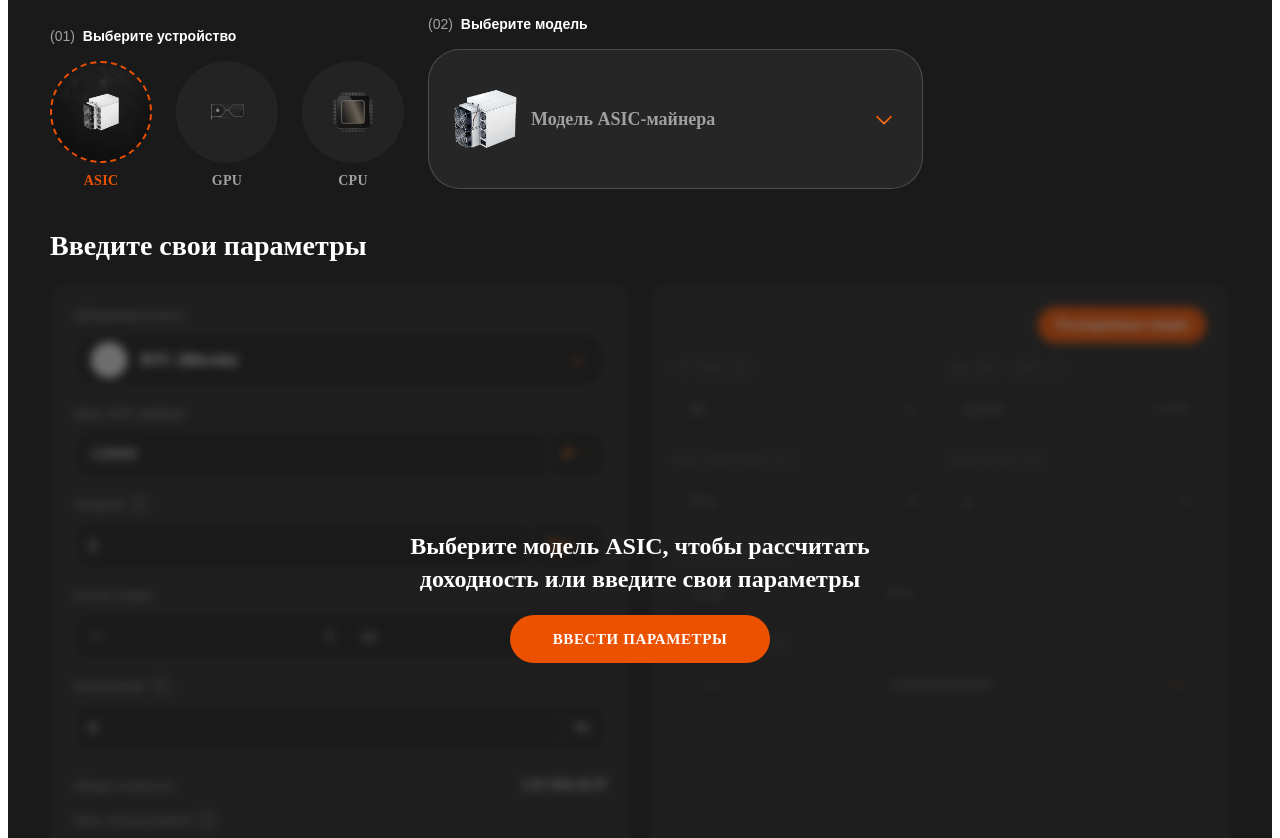
Test: CalculatorForm › locks GPU params until a model is selected
Click the tab with class "calculator-form__tab" showing "GPU" at {"x": 227, "y": 125}, box [176,61,278,189]
(page scrolled)
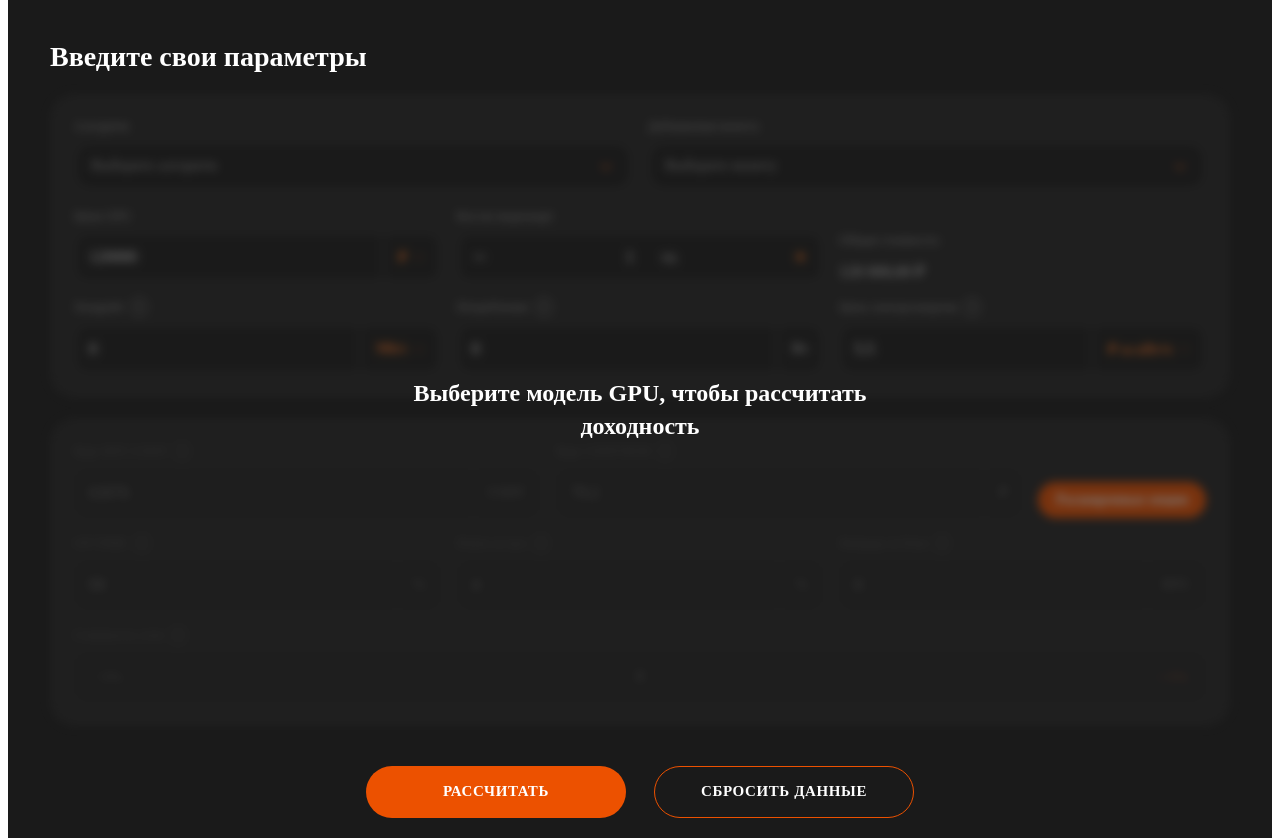
Now the text "Выберите модель GPU, чтобы рассчитать доходность" is shown, box [380,377,900,442]
